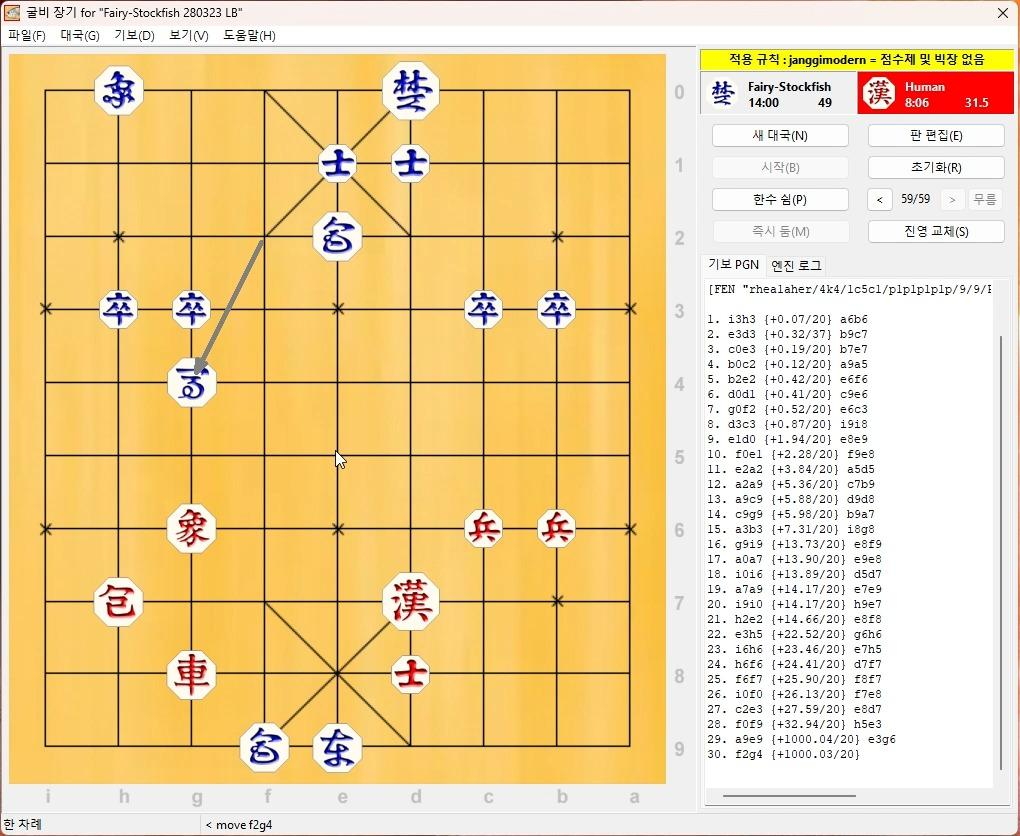cha_green: (313, 725, 362, 771)
cha_red: (168, 652, 218, 697)
jol_green: (537, 293, 576, 329), (171, 292, 210, 328), (466, 292, 504, 328), (98, 293, 137, 328)
jol_red: (539, 509, 577, 548), (466, 511, 502, 548)
ma_green: (167, 360, 216, 405)
po_green: (241, 723, 292, 767), (314, 215, 361, 260)
po_red: (95, 577, 144, 625)
sa_green: (319, 143, 358, 184), (392, 143, 431, 183)
sa_red: (391, 658, 430, 692)
sang_green: (95, 68, 143, 114)
sang_red: (166, 504, 218, 552)
wang_green: (382, 64, 439, 117)
wang_red: (384, 576, 440, 628)
